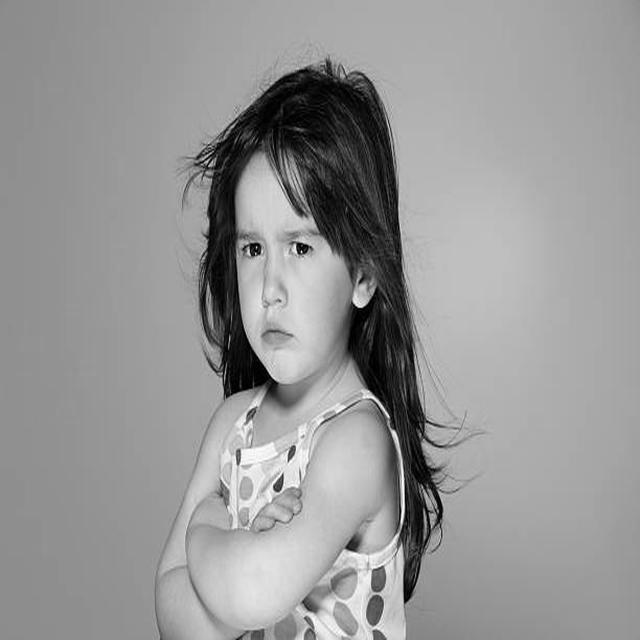Angry: (234, 152, 354, 384)
